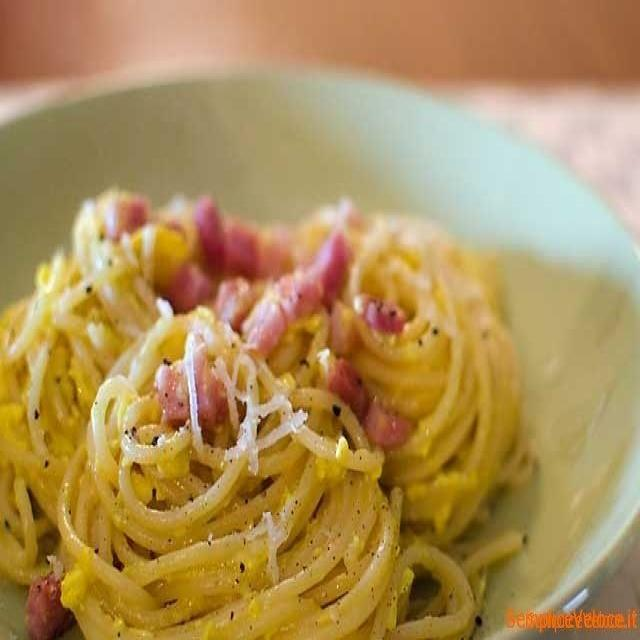Pasta with carbonara sauce: (11, 149, 570, 639)
